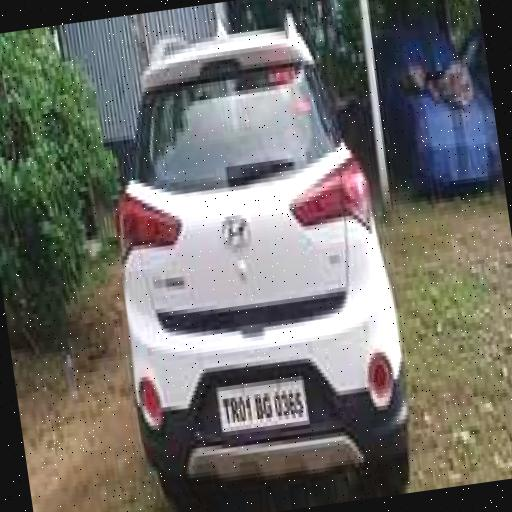license_plate`: (213, 372, 307, 429)
